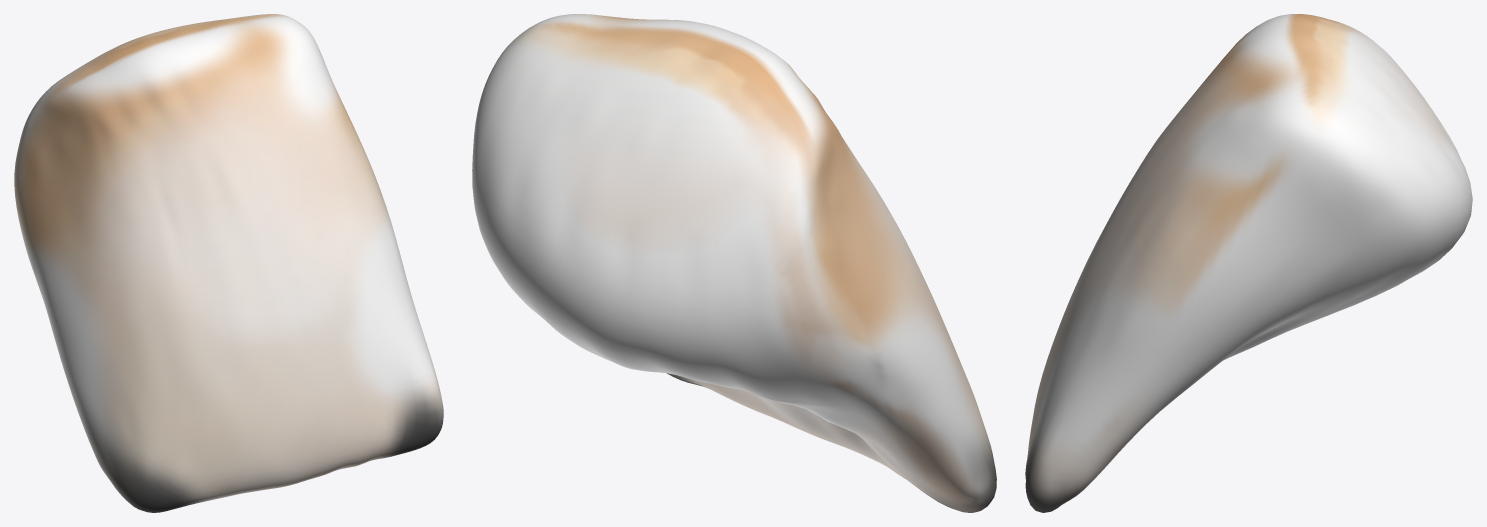
The model's file is 11_class_6.glb.
The picture shows the model from 3 angles, left to right: view 1: azimuth 30°, elevation 25°; view 2: azimuth 150°, elevation 25°; view 3: azimuth 270°, elevation 25°; orthographic projection. The views are drawn at different scales.
Parts seen in each view (by area): view 1: 11; view 2: 11; view 3: 11.
Boxes of the visible parts, box(x1,y1,x2,y2) form: 11: box(14, 14, 443, 512); 11: box(472, 14, 996, 512); 11: box(1025, 14, 1472, 512).
Size of the model in its own units: 0.2776 by 0.3355 by 0.3128.
1 material, 1 textured.
